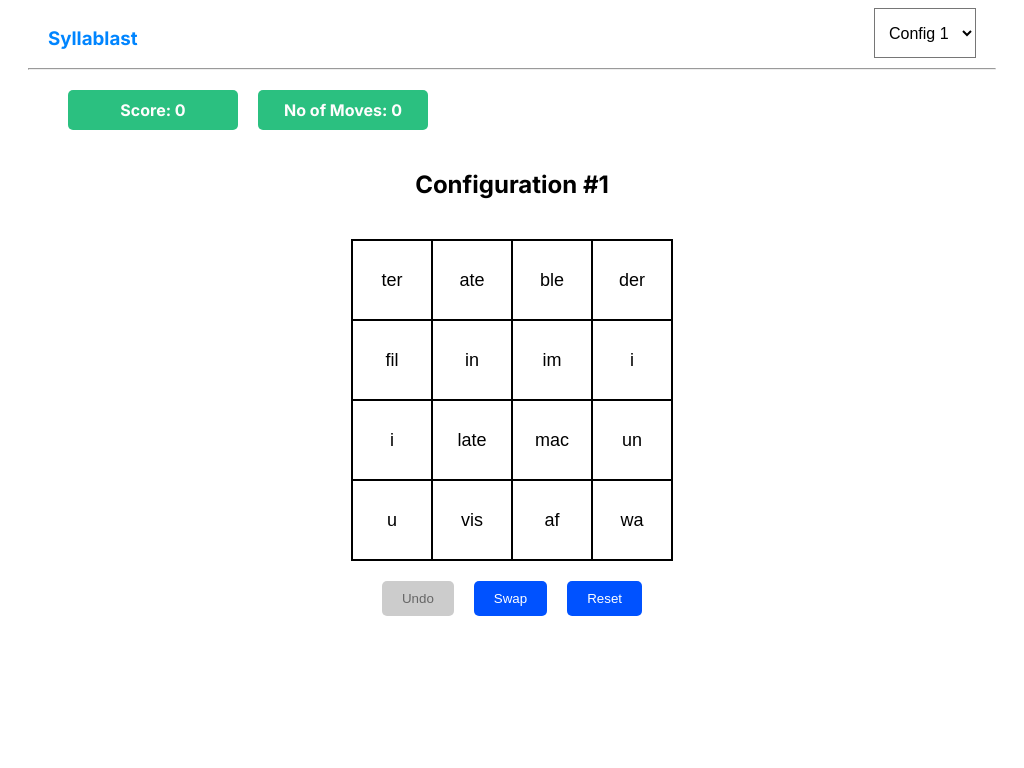
Test: Home component › handleSwap should swap elements correctly
Click the button "fil" at (392, 360), box x1=352 y1=320 x2=432 y2=400
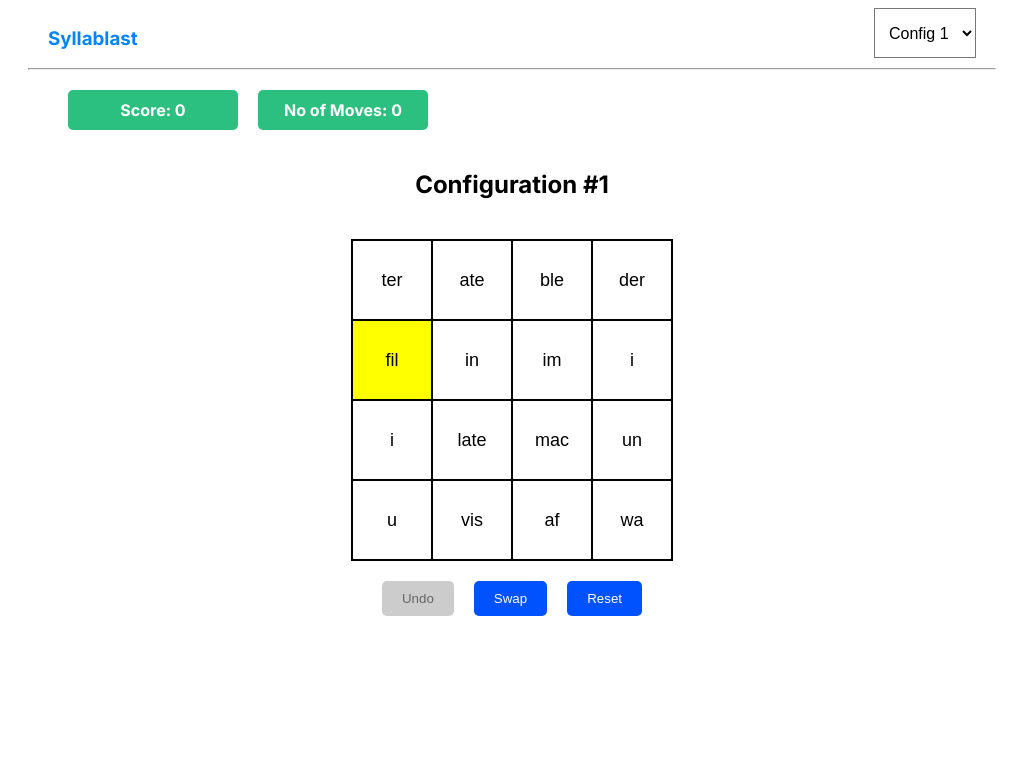
Click the button "im" at (552, 360), box x1=512 y1=320 x2=592 y2=400
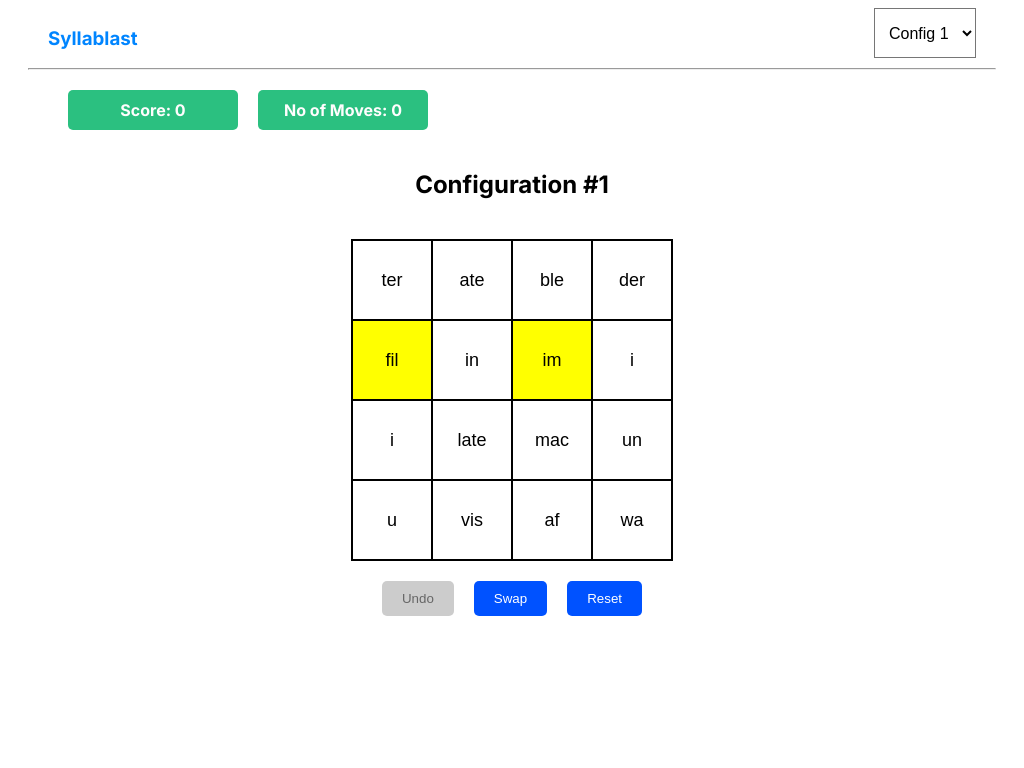
Click the button with id "swap" at (510, 599), box x1=474 y1=581 x2=547 y2=616
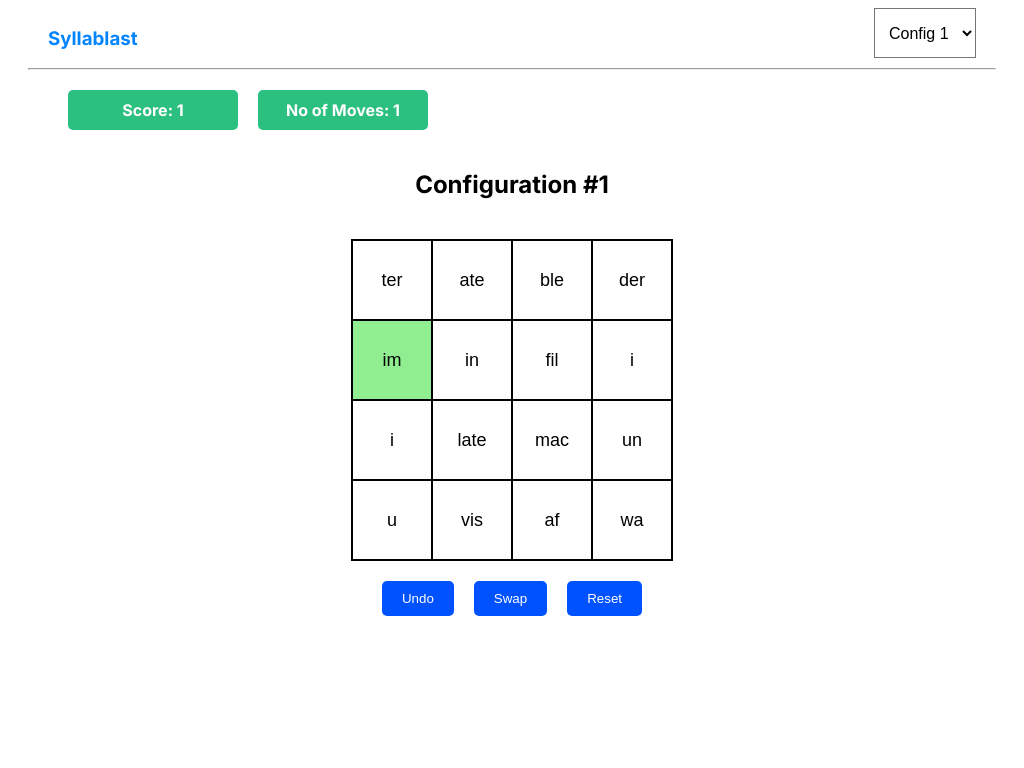
Check: the text "No of Moves: 0" reads "No of Moves: 1", box x1=286 y1=100 x2=400 y2=120
